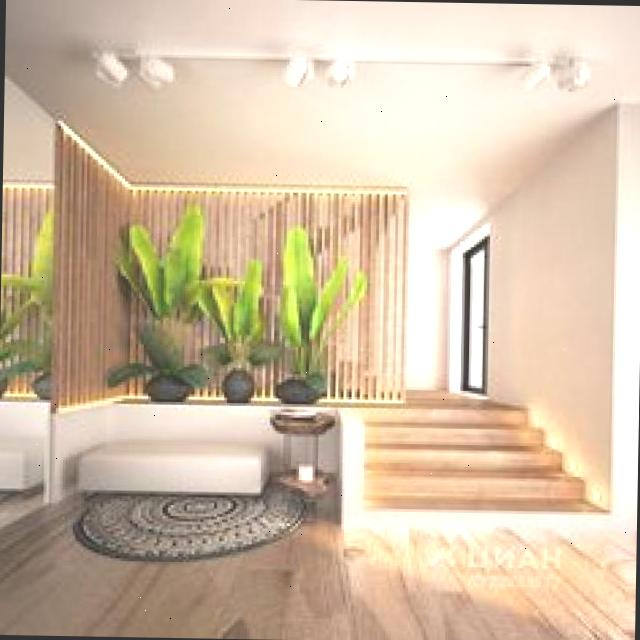stairs: (352, 386, 601, 512)
